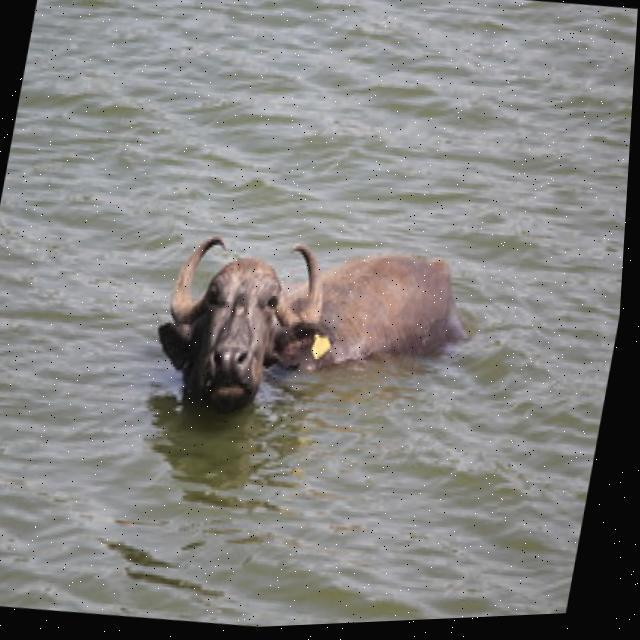Buffalo: (139, 208, 485, 445)
